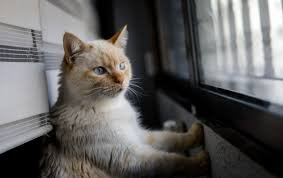cat: (47, 22, 211, 178)
